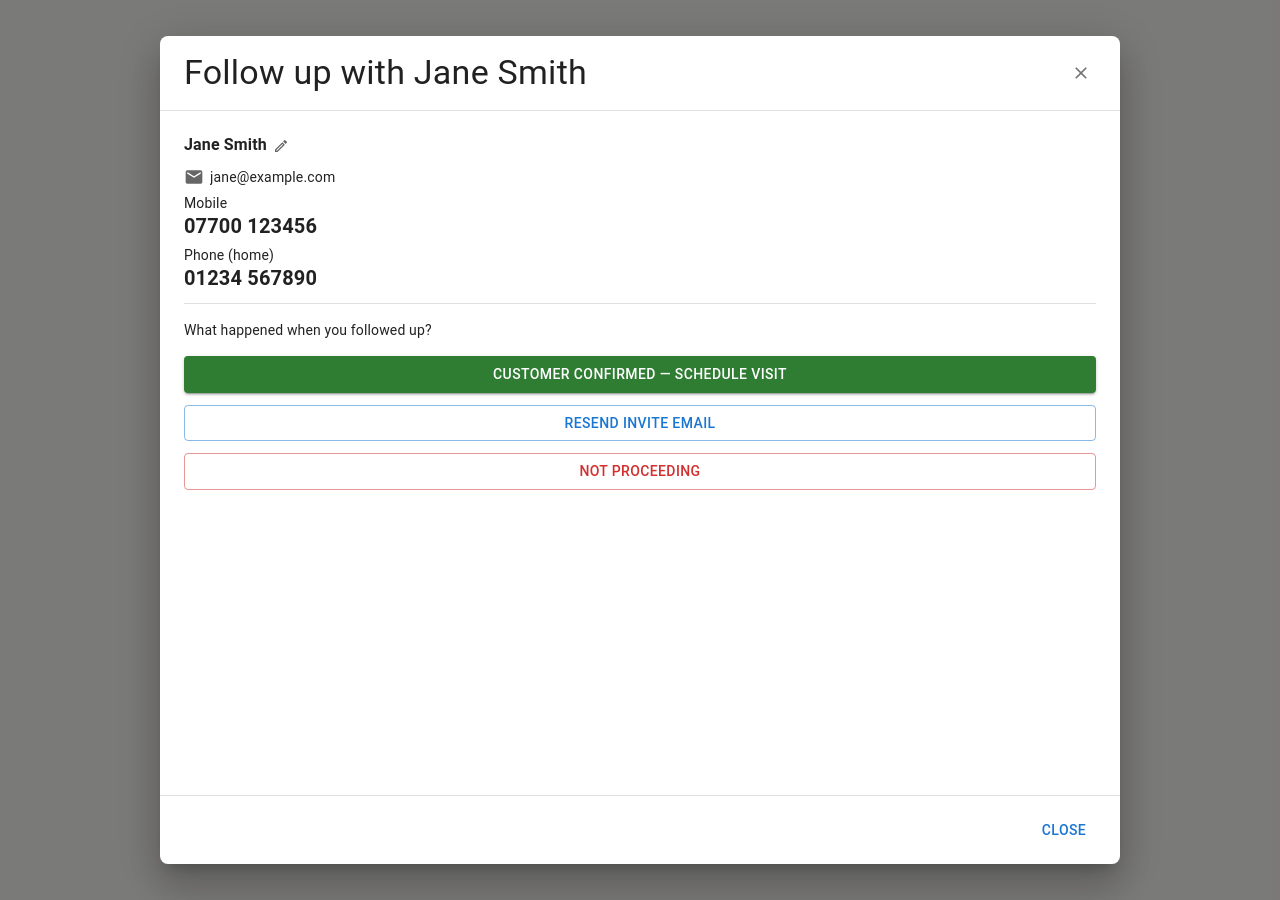
Test case: DesignVisitFollowupModal — modal title › shows "Done" as the modal title after the resend flow completes
Check: the button with test id "dvf-confirmed" is shown, box [184,356,1096,392]
Click the button with test id "dvf-resend". click: (640, 423)
box: [184,404,1096,441]
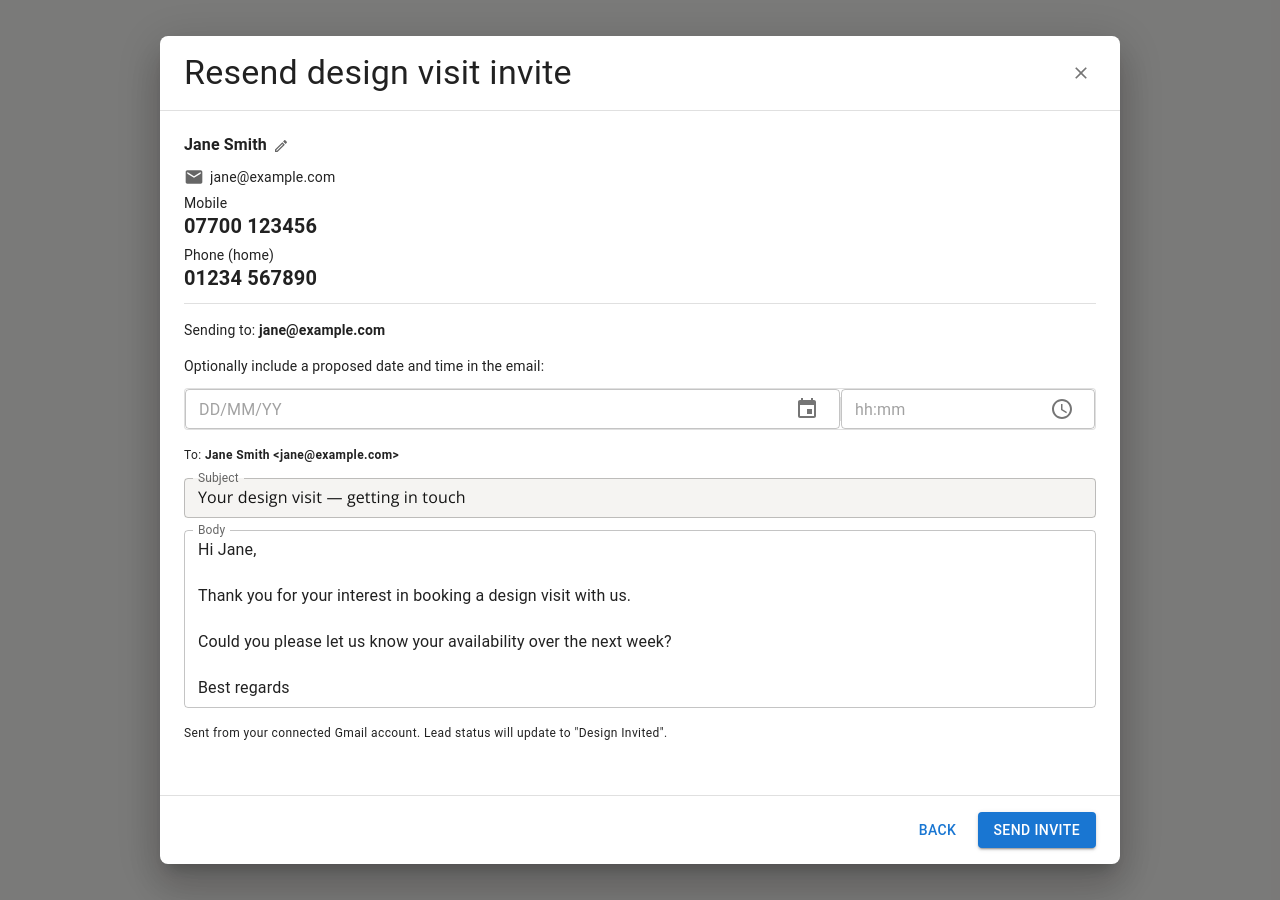
Check: the heading "Resend design visit invite" is shown, box [184,52,572,92]
Click the button with test id "dvf-send-invite". click: (1037, 830)
box: [978,812,1096,848]
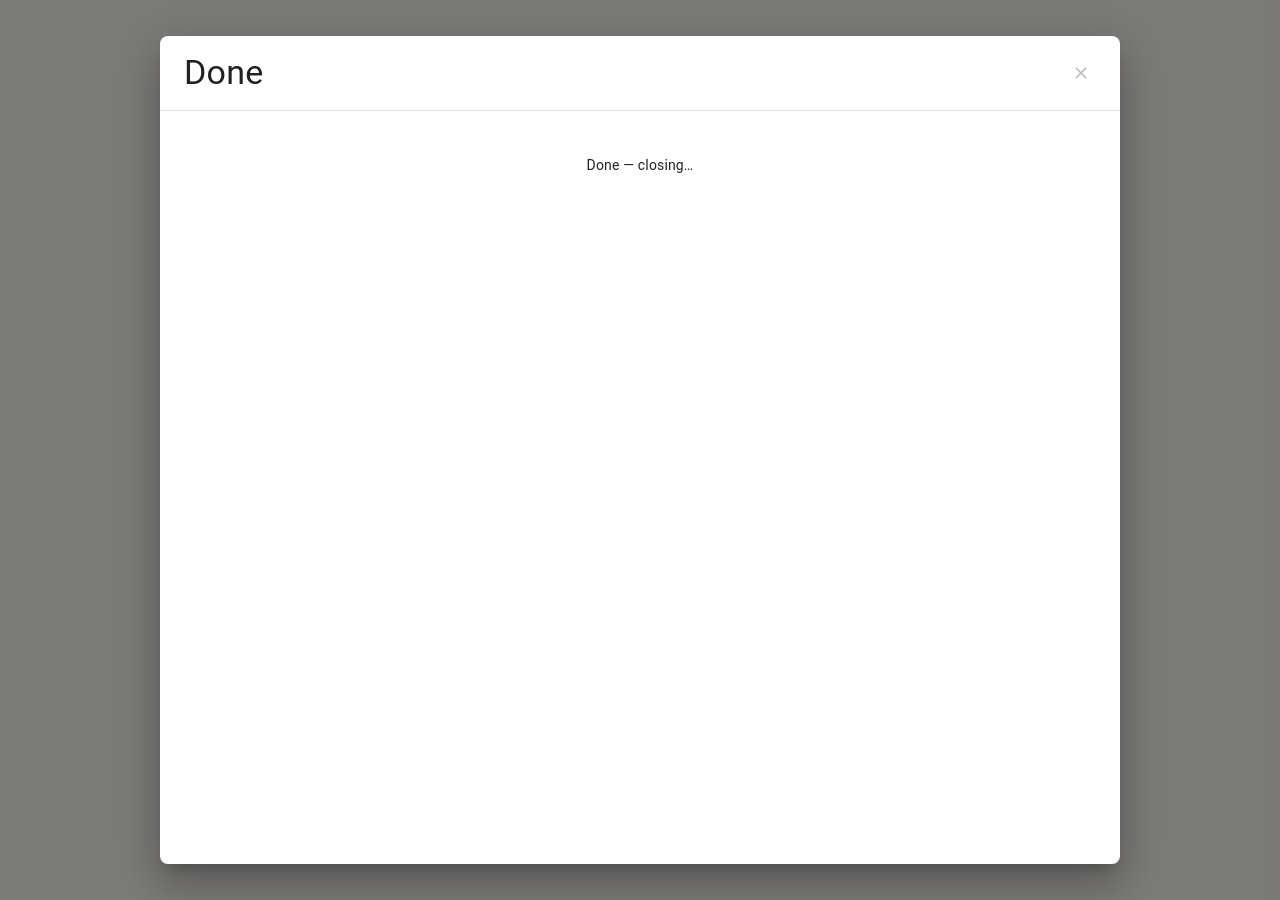
Check: the heading "Done" is shown, box [184,52,264,92]
